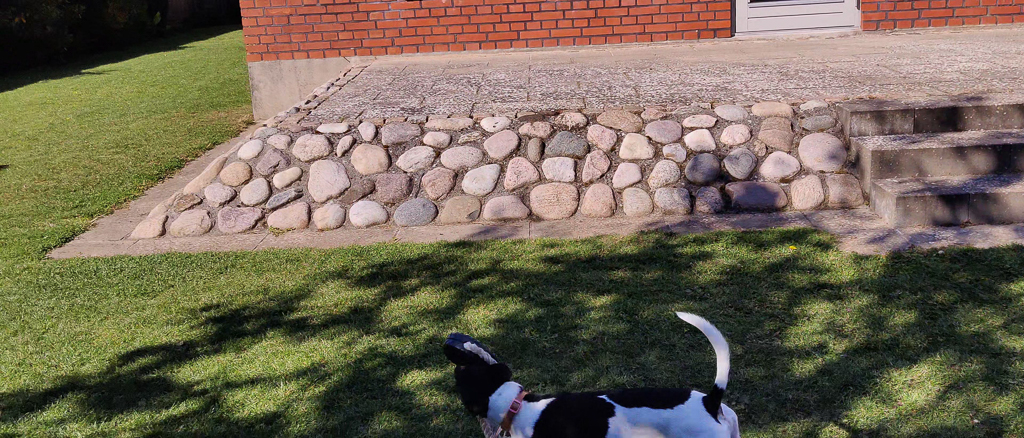Dog: (428, 309, 756, 438)
